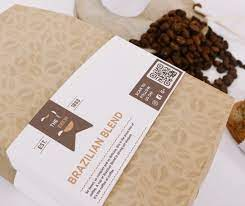qr_code: (146, 61, 183, 89)
